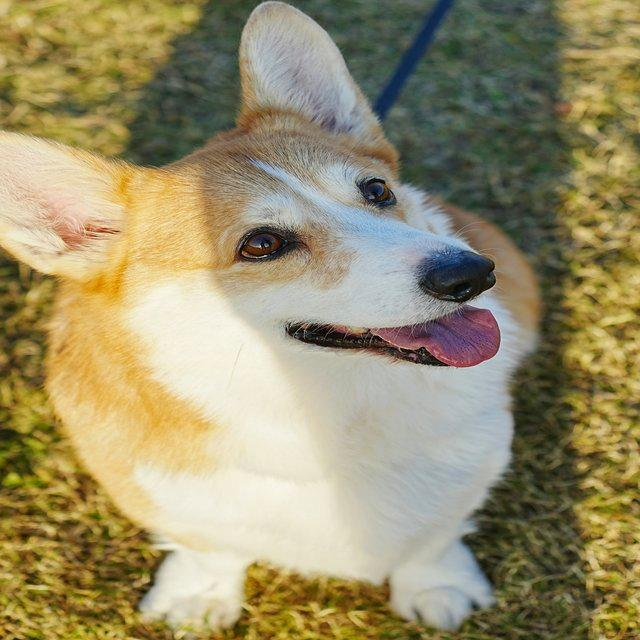corgi: (0, 1, 544, 635)
